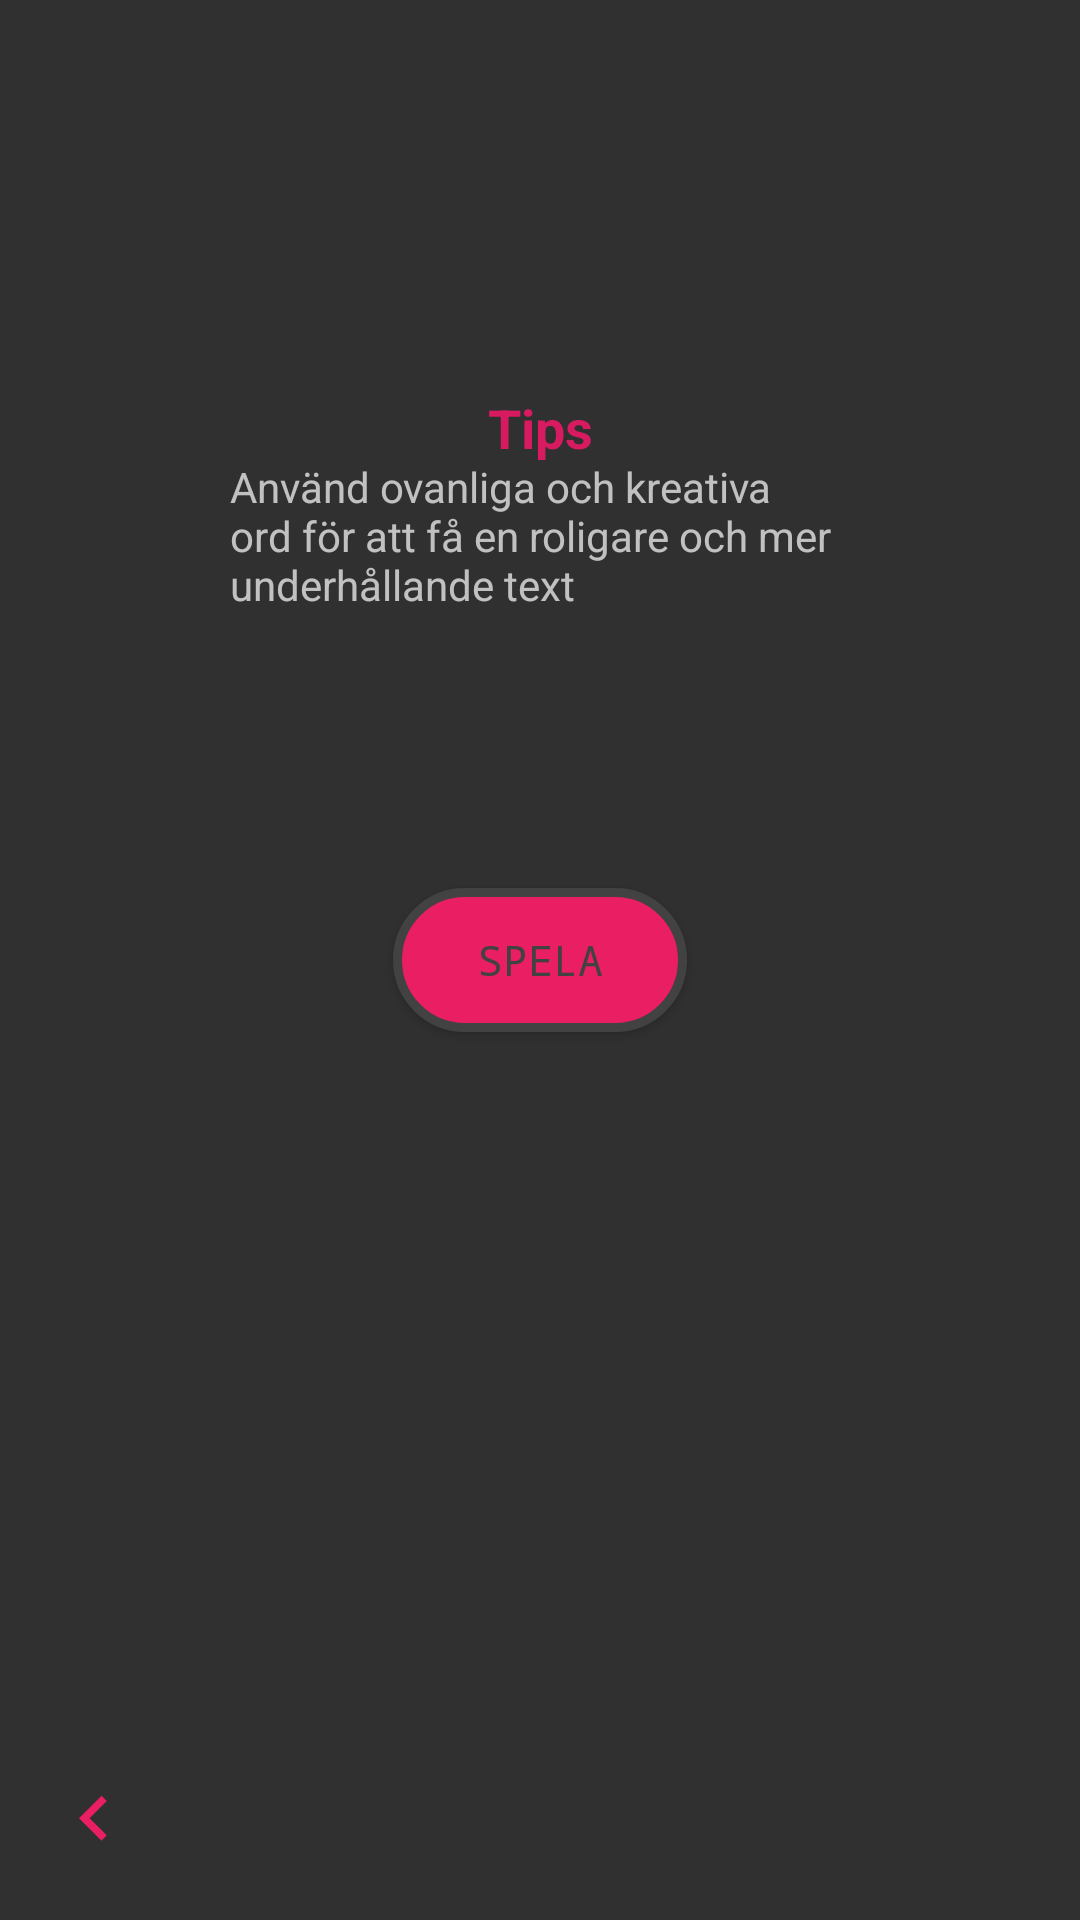

Icon bounding boxes for this 1080px x 1920px phone screenshot, format (x1, y1, x2, y2):
keyboard arrow left: (79, 1796, 107, 1841)
